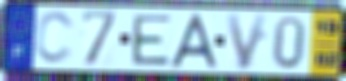0: (271, 15, 308, 70)
7: (80, 9, 119, 68)
A: (167, 12, 221, 71)
C: (33, 10, 77, 67)
E: (131, 14, 173, 67)
V: (224, 12, 270, 72)
